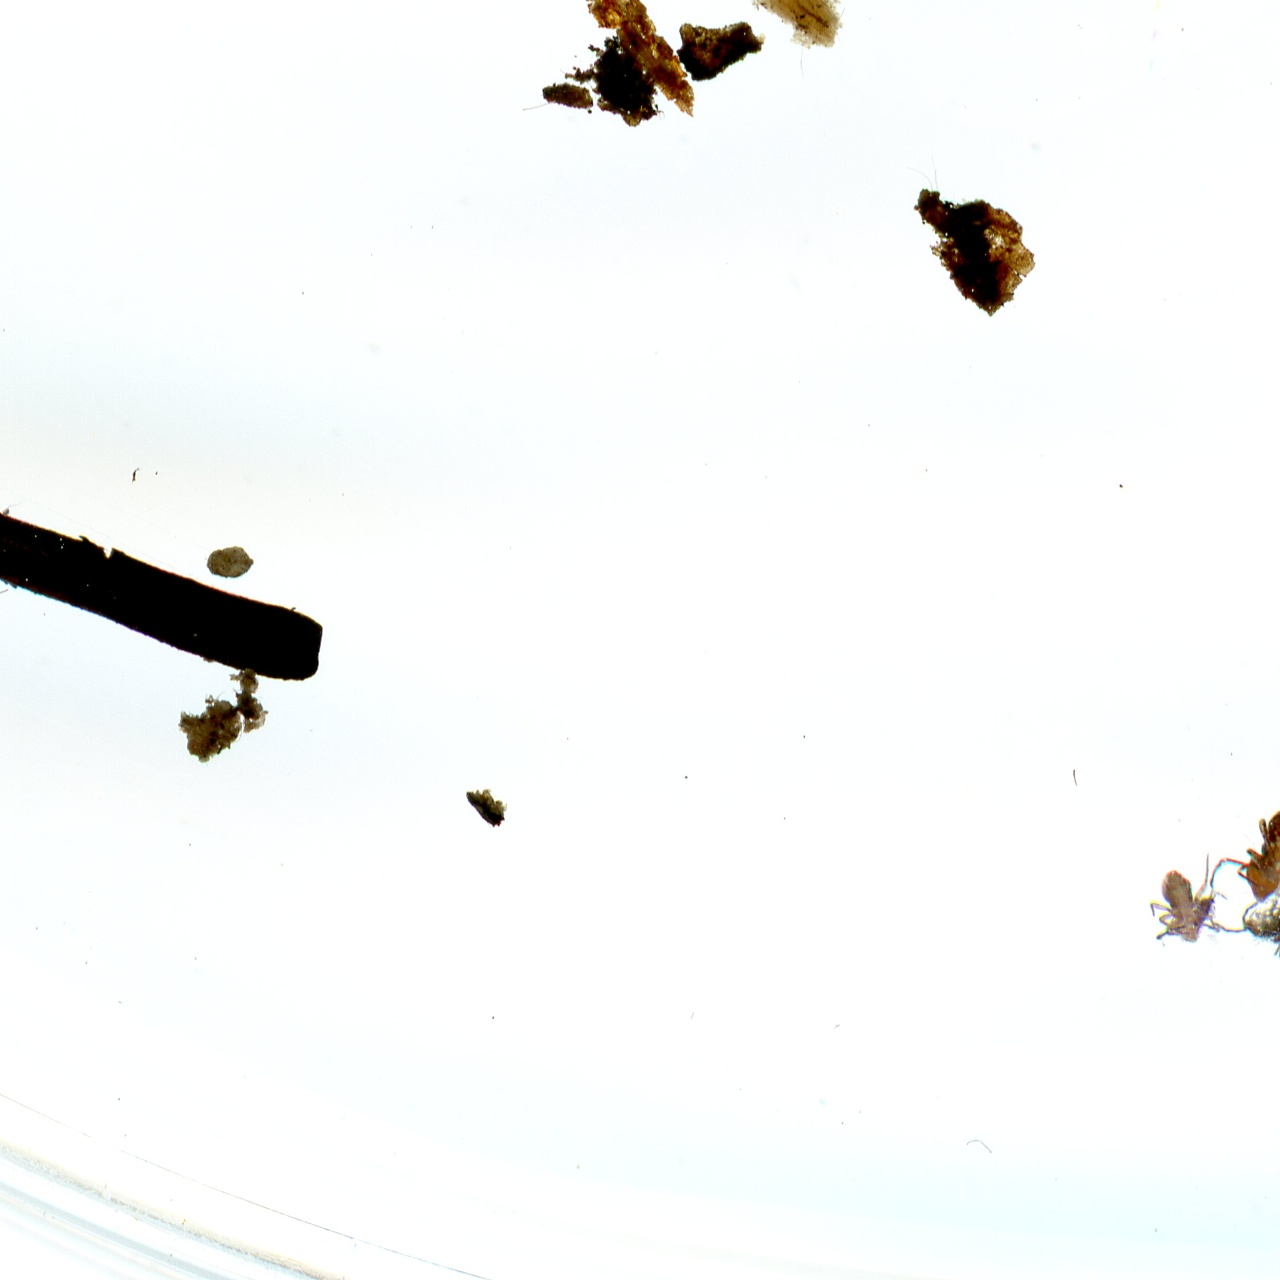arthropod: (1207, 791, 1280, 907), (1148, 850, 1216, 947), (1203, 887, 1280, 942), (1272, 920, 1280, 966)
